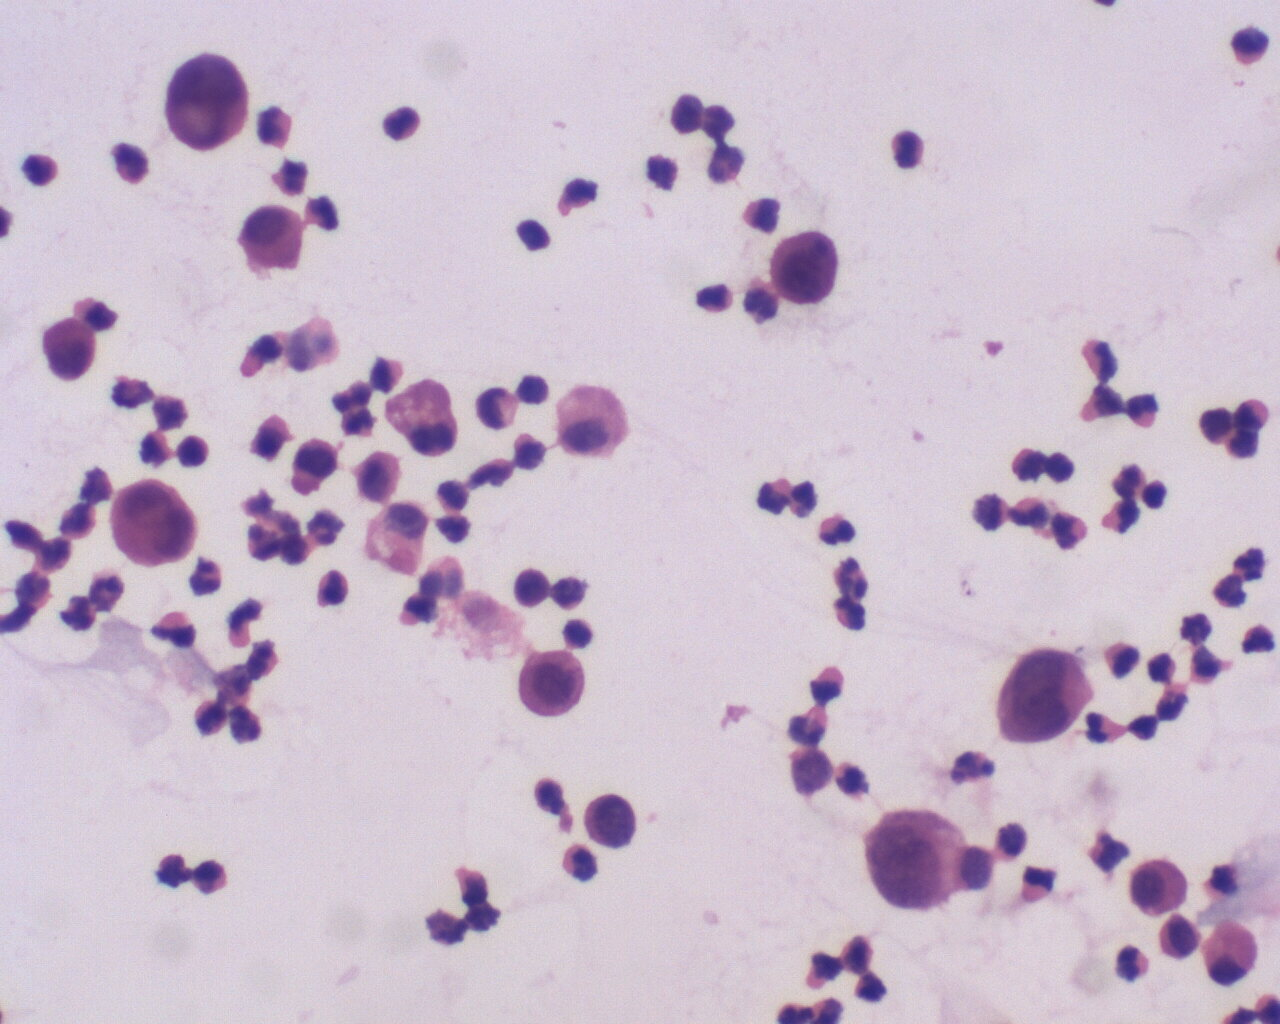ab: (994, 630, 1093, 753), (157, 42, 259, 155), (869, 798, 961, 916), (107, 478, 197, 573), (770, 227, 846, 315), (516, 643, 586, 718), (38, 312, 99, 388), (578, 788, 639, 852)
meso: (553, 377, 633, 460), (233, 202, 306, 279), (1198, 915, 1267, 992), (1128, 852, 1190, 916)
neutro: (554, 840, 609, 889), (1110, 933, 1149, 985), (830, 594, 877, 636), (810, 507, 859, 546), (1096, 498, 1142, 540), (1235, 621, 1280, 659), (1215, 571, 1252, 614), (1233, 545, 1271, 583)
